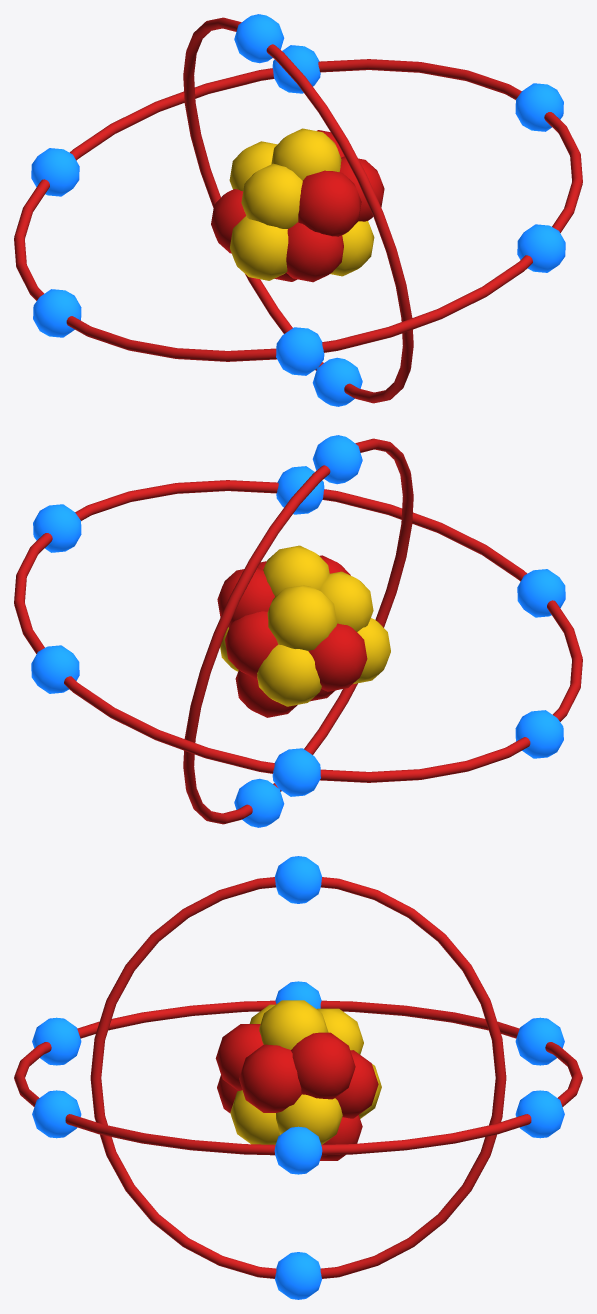
Rendered from Atom_O.fbx.
3 views of the same model, one above another, from view 1: azimuth 30°, elevation 25°; view 2: azimuth 150°, elevation 25°; view 3: azimuth 270°, elevation 25° (orthographic).
Visible parts, largest first — view 1: O_Orbit_2, O_Inti_Atom, O_Orbit_1; view 2: O_Orbit_2, O_Inti_Atom, O_Orbit_1; view 3: O_Orbit_2, O_Inti_Atom, O_Orbit_1.
Part boxes in pixels (x1,y1,x2,y2): O_Orbit_2: (14, 45, 582, 375); O_Inti_Atom: (211, 128, 384, 282); O_Orbit_1: (183, 14, 413, 406); O_Orbit_2: (14, 466, 582, 796); O_Inti_Atom: (217, 545, 390, 717); O_Orbit_1: (183, 435, 413, 827); O_Orbit_2: (14, 981, 582, 1174); O_Inti_Atom: (215, 1000, 381, 1160); O_Orbit_1: (90, 856, 506, 1299).
Bounding box in the file's own units: 1.32 × 0.9818 × 1.26.
